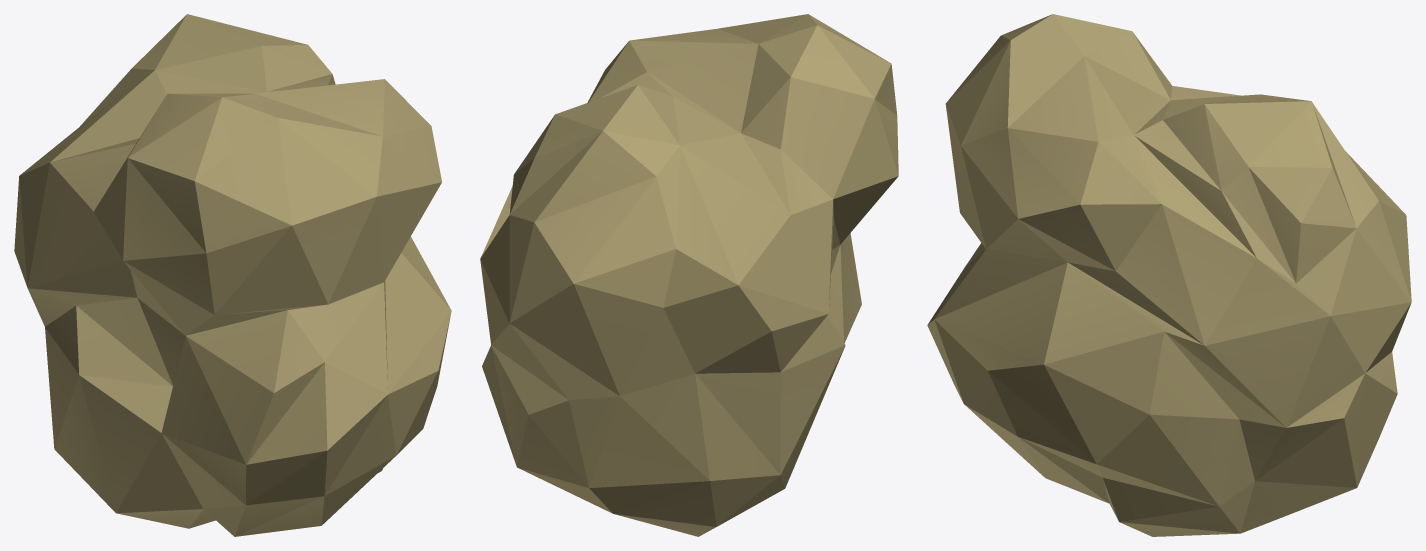
The model's file is SM_rock_12.fbx.
The picture shows the model from 3 angles, left to right: view 1: azimuth 30°, elevation 25°; view 2: azimuth 150°, elevation 25°; view 3: azimuth 270°, elevation 25°; orthographic projection. The views are drawn at different scales.
Visible parts, largest first — view 1: rock_12; view 2: rock_12; view 3: rock_12.
Part boxes in pixels (x1,y1,x2,y2): rock_12: (14, 14, 451, 536); rock_12: (480, 14, 898, 536); rock_12: (927, 14, 1411, 536).
Size of the model in its own units: 190 by 252 by 236.
